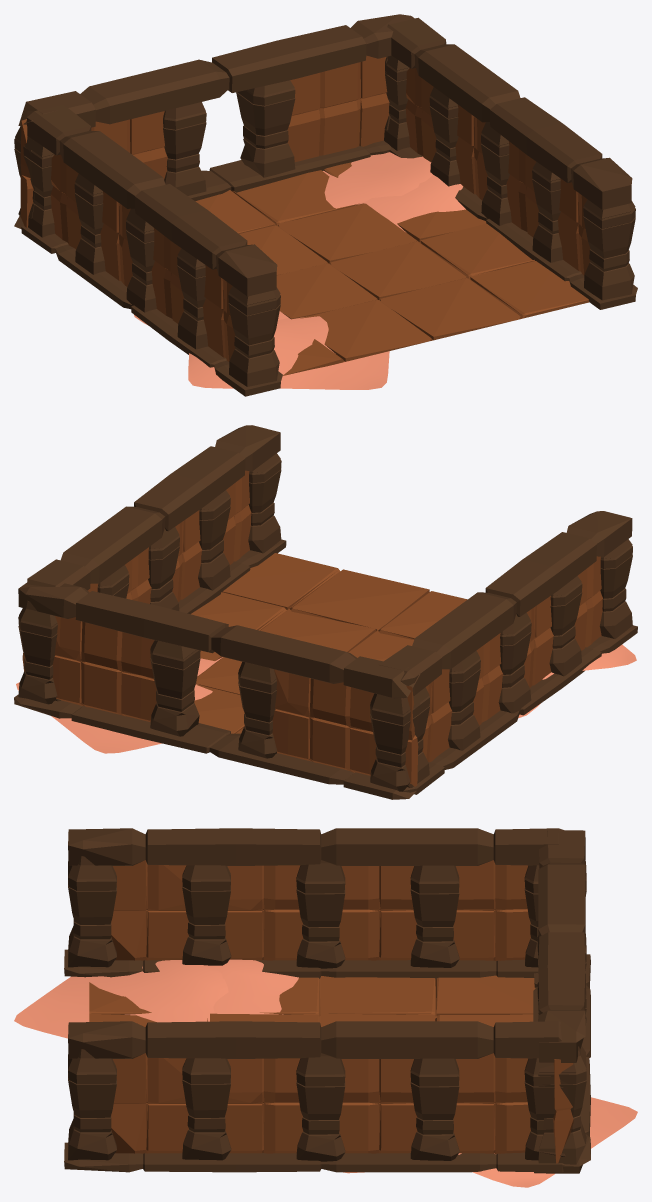
3 renders of one model, top to bottom at view 1: azimuth 30°, elevation 25°; view 2: azimuth 150°, elevation 25°; view 3: azimuth 270°, elevation 25°, orthographic. The views are drawn at different scales.
Visible parts, largest first — view 1: floor, TopStone.001, TopStone.002, TopStone, waLLMain, WallMain.002, WallMain.001, Plane.002, Pillar.008, Pillar.004, Pillar.009, wall (+14 smaller); view 2: floor, TopStone.001, TopStone.002, TopStone, WallMain, WallMain.001, WallMain.002, wall.002, waLLMain, Pillar.008, wall, Pillar.005 (+14 smaller); view 3: waLLMain, WallMain.002, TopStone, TopStone.002, floor, TopStone.001, Plane.002, wall.001, wall, Pillar.009, Pillar.004, Pillar.003 (+12 smaller).
Part boxes in pixels (left/top/right/bottom): floor: left=195, top=162, right=589, bottom=375; TopStone.001: left=18, top=14, right=414, bottom=127; TopStone.002: left=27, top=104, right=277, bottom=296; TopStone: left=387, top=17, right=632, bottom=209; waLLMain: left=405, top=68, right=590, bottom=275; WallMain.002: left=50, top=154, right=235, bottom=361; WallMain.001: left=287, top=55, right=389, bottom=161; Plane.002: left=188, top=316, right=389, bottom=389; Pillar.008: left=236, top=80, right=295, bottom=177; Pillar.004: left=583, top=199, right=635, bottom=300; Pillar.009: left=228, top=286, right=280, bottom=386; wall: left=21, top=222, right=282, bottom=396; floor: left=191, top=553, right=467, bottom=733; TopStone.001: left=18, top=583, right=420, bottom=698; TopStone.002: left=379, top=511, right=632, bottom=695; TopStone: left=27, top=425, right=280, bottom=590; WallMain: left=272, top=669, right=418, bottom=786; WallMain.001: left=22, top=616, right=156, bottom=722; WallMain.002: left=422, top=556, right=602, bottom=762; wall.002: left=14, top=694, right=416, bottom=799; waLLMain: left=87, top=470, right=251, bottom=603; Pillar.008: left=150, top=640, right=200, bottom=736; wall: left=403, top=625, right=637, bottom=794; Pillar.005: left=370, top=693, right=420, bottom=791; waLLMain: left=111, top=1053, right=530, bottom=1153; WallMain.002: left=111, top=860, right=530, bottom=960; TopStone: left=68, top=1021, right=561, bottom=1058; TopStone.002: left=68, top=828, right=563, bottom=865; floor: left=89, top=975, right=535, bottom=1026; TopStone.001: left=538, top=830, right=585, bottom=1062; Plane.002: left=14, top=960, right=228, bottom=1038; wall.001: left=64, top=1142, right=565, bottom=1172; wall: left=64, top=949, right=538, bottom=979; Pillar.009: left=68, top=856, right=116, bottom=967; Pillar.004: left=68, top=1049, right=116, bottom=1160; Pillar.003: left=296, top=1053, right=345, bottom=1161.
Size of the model in its own units: 5026 by 1329 by 5466.
